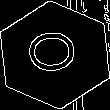O_E: (25, 31, 85, 79)
